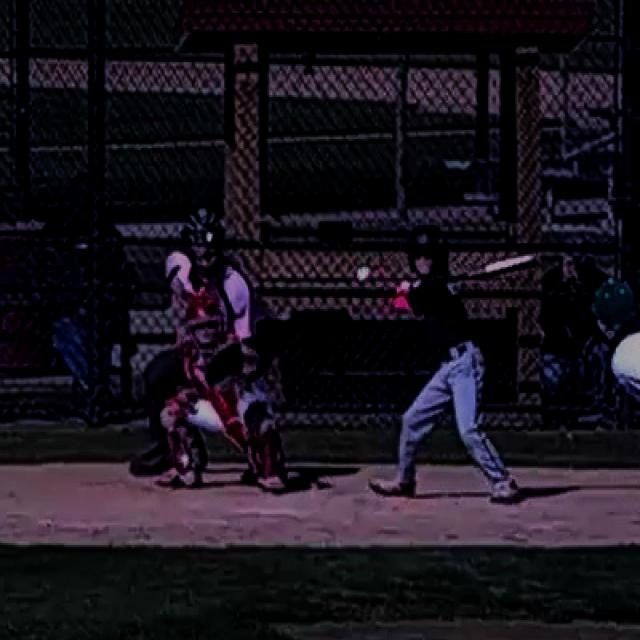baseball: (357, 266, 371, 282)
